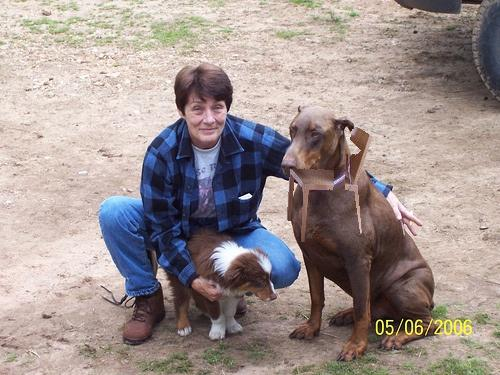tampered: (288, 128, 372, 242)
